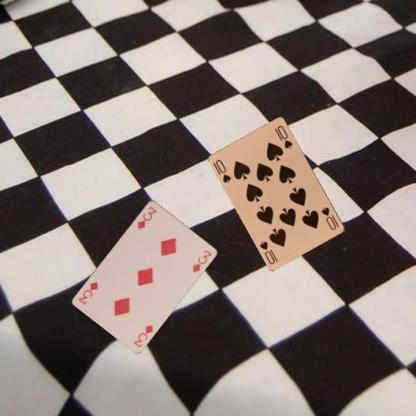10s: (318, 204, 340, 232), (213, 156, 232, 184)
3d: (134, 203, 158, 230), (131, 322, 154, 349)
